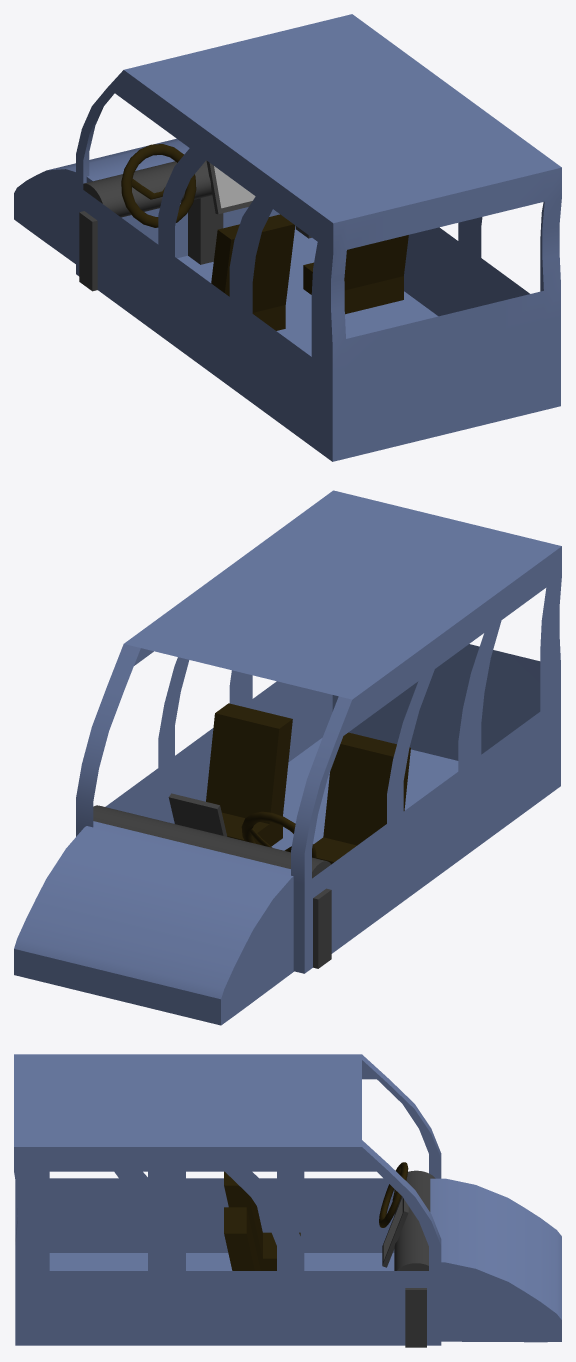
Rendered from carInterior.fbx.
The picture shows the model from 3 angles, top to bottom: view 1: azimuth 30°, elevation 25°; view 2: azimuth 150°, elevation 25°; view 3: azimuth 270°, elevation 25°; orthographic projection. The views are drawn at different scales.
Parts seen in each view (by area): view 1: carBody, dash, wheel; view 2: carBody, dash, wheel; view 3: carBody, dash, wheel.
Boxes of the visible parts, bbox=[...] form: carBody: bbox=[14, 14, 561, 461]; dash: bbox=[79, 160, 311, 291]; wheel: bbox=[121, 144, 196, 227]; carBody: bbox=[14, 490, 561, 1025]; dash: bbox=[93, 793, 331, 968]; wheel: bbox=[241, 811, 316, 858]; carBody: bbox=[14, 1054, 561, 1345]; dash: bbox=[382, 1170, 435, 1347]; wheel: bbox=[379, 1162, 408, 1227].
Size of the model in its own units: 10.48 by 10.07 by 25.07.
